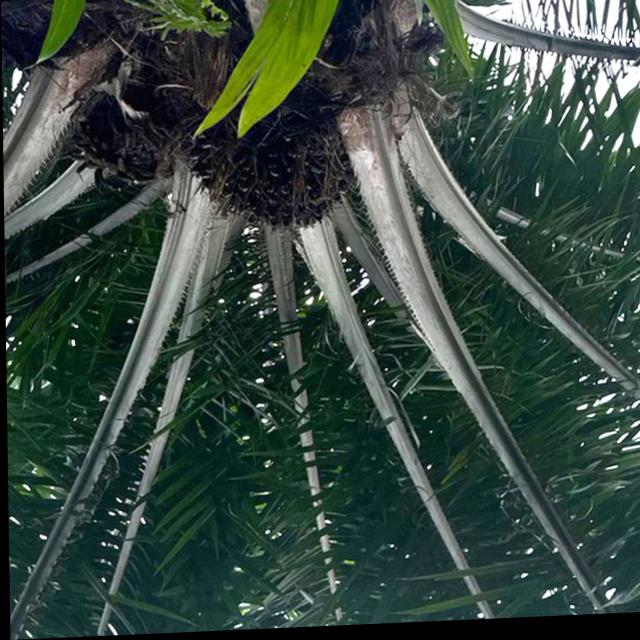almost: (170, 97, 363, 266)
